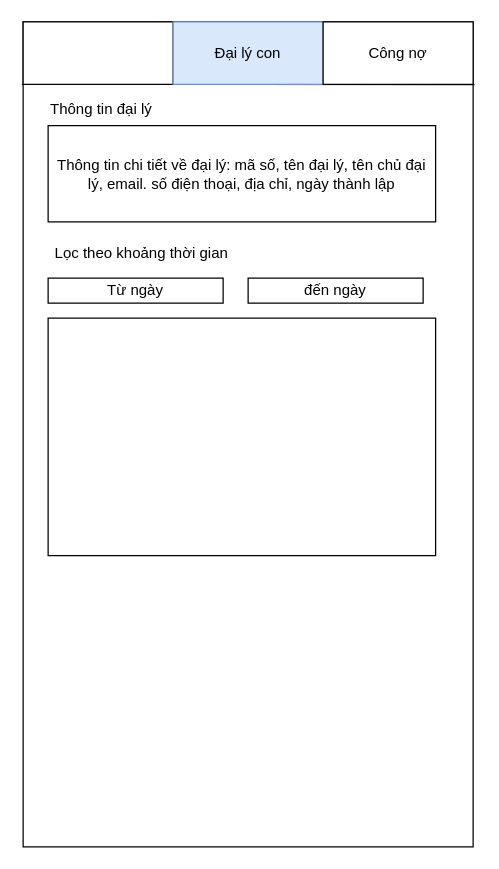
Image size: 499x869. Some labels were removed from this diagram. The centre of each missing label's shape, as x and y in pixels:
Biểu đồ: pixel 241 436
Doanh thu: pixel 97 52
